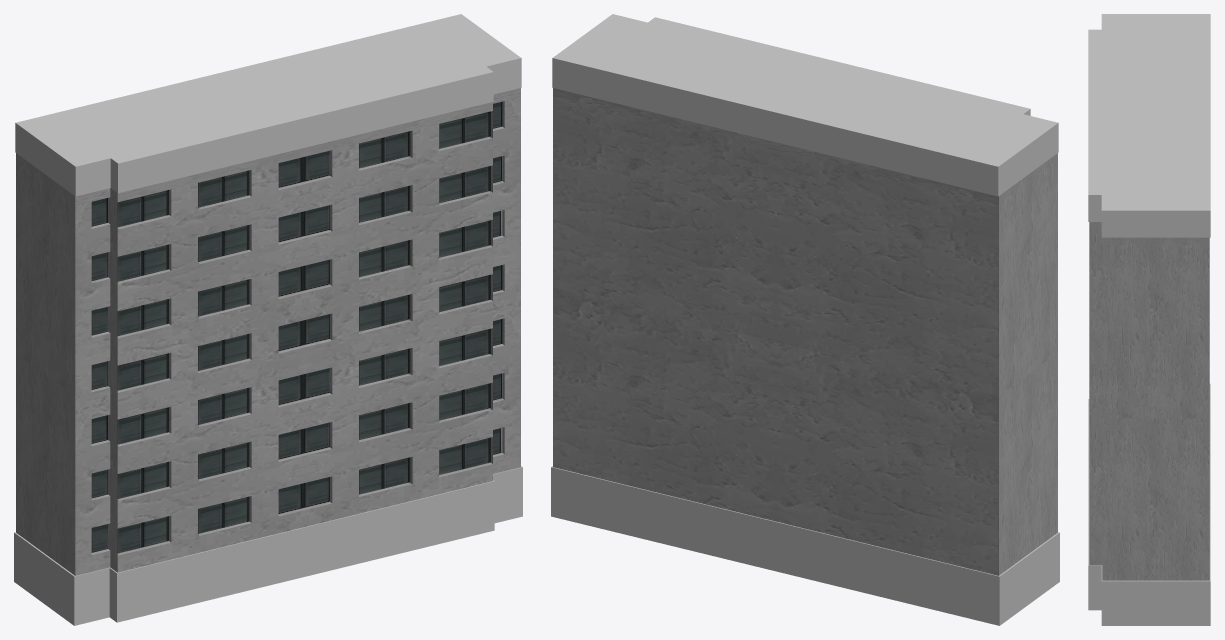
File: Apartment.fbx
3 views of the same model, side by side, from view 1: azimuth 30°, elevation 25°; view 2: azimuth 150°, elevation 25°; view 3: azimuth 270°, elevation 25° (orthographic). The views are drawn at different scales.
Parts seen in each view (by area): view 1: Apartment, Roof, Roof.001; view 2: Apartment, Roof, Roof.001; view 3: Apartment, Roof, Roof.001.
Part boxes in pixels (box(x1,y1,x2,y2)): Apartment: box(16, 88, 520, 575); Roof: box(15, 14, 521, 196); Roof.001: box(14, 466, 522, 625); Apartment: box(553, 88, 1057, 575); Roof: box(552, 14, 1058, 196); Roof.001: box(551, 466, 1059, 625); Apartment: box(1089, 222, 1209, 580); Roof: box(1088, 14, 1210, 237); Roof.001: box(1088, 383, 1210, 625).
Size of the model in its own units: 8733 by 8536 by 2277.
